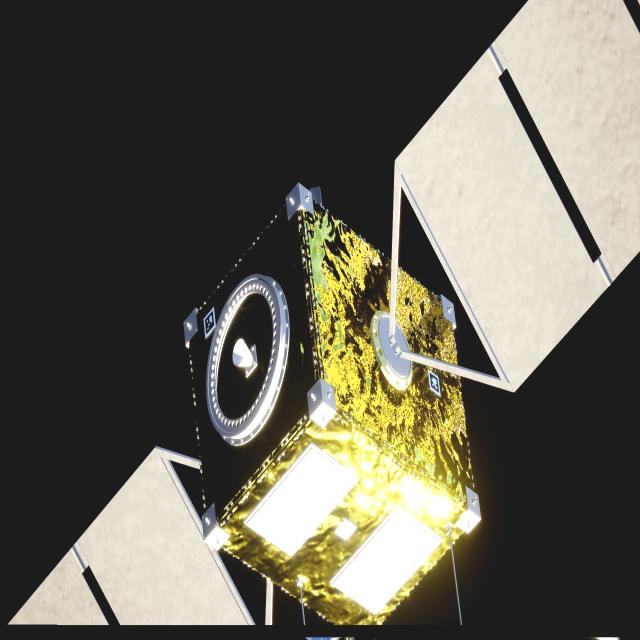medium_debris: (10, 0, 640, 628)
